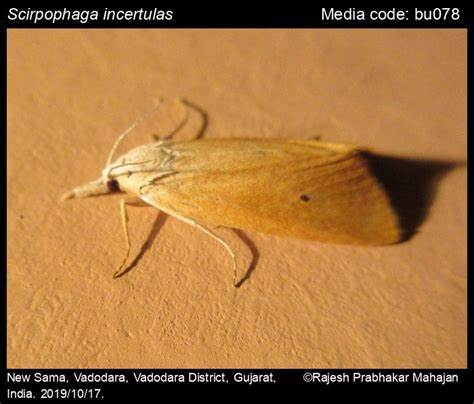Crambidae: (59, 92, 409, 290)
